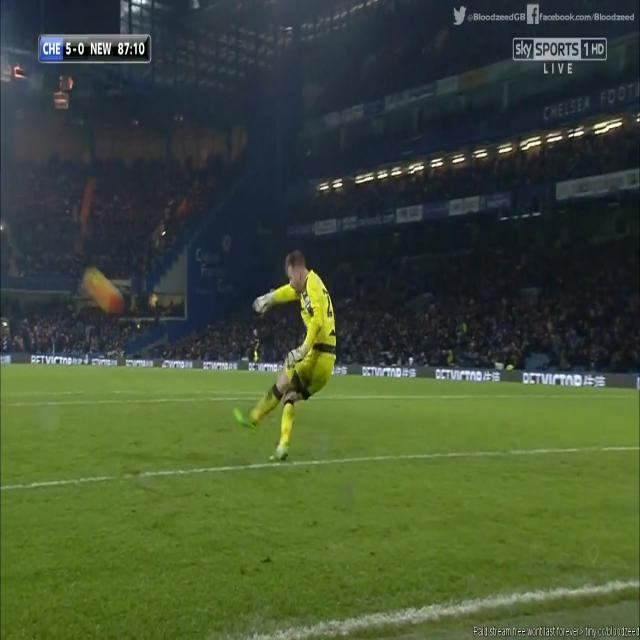Ball: (83, 265, 128, 322)
Goalkeeper: (232, 242, 338, 459)
